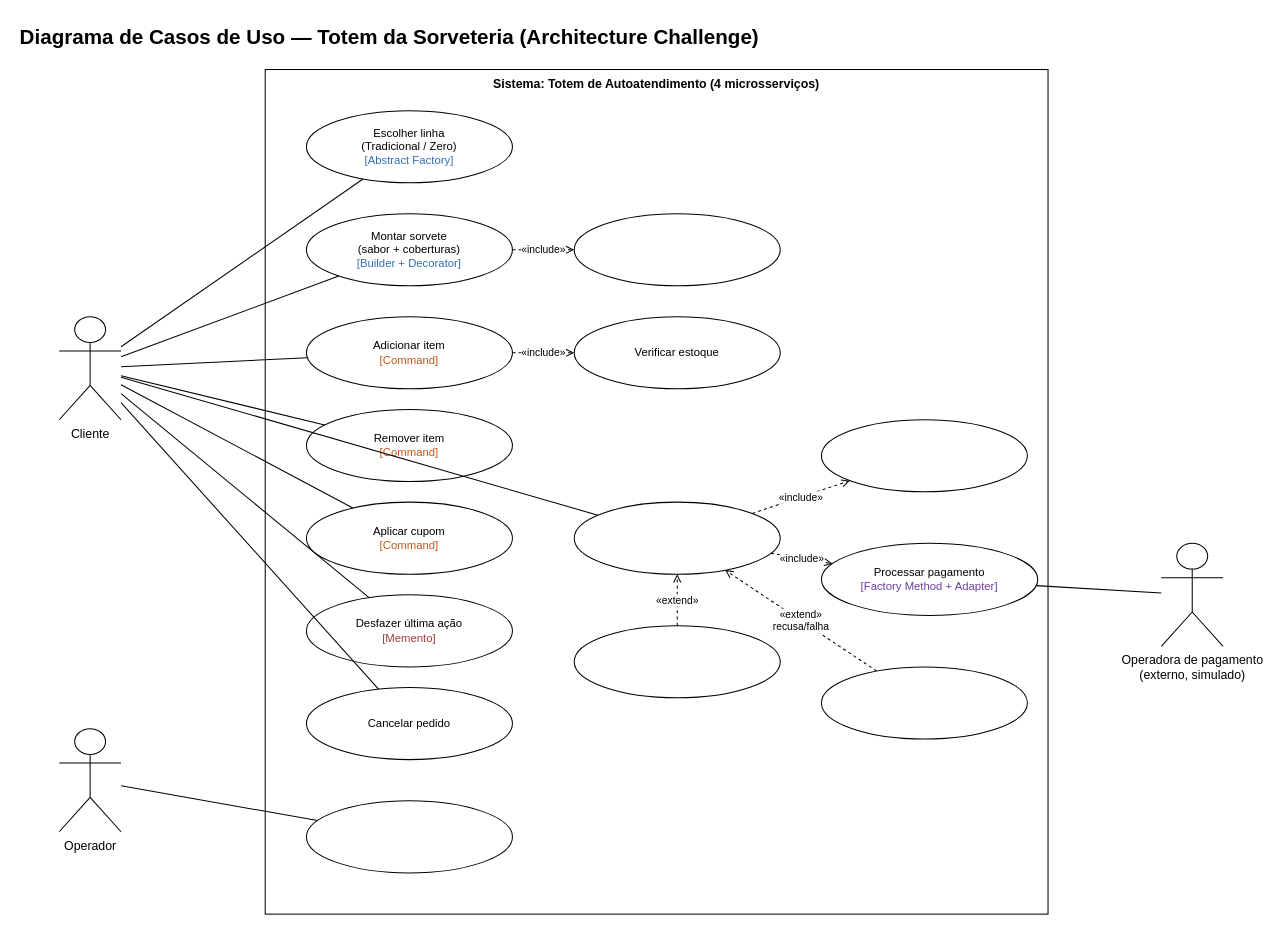
Some shapes in this 1280 by 932 pixel diagram are drawn without their labels. Each missing label, with the centre of its shape:
Consultar / repor estoque: (x=408, y=836)
Finalizar pedido [Facade + Mediator]: (x=676, y=537)
Liberar reserva (compensação): (x=923, y=702)
Reservar estoque: (x=923, y=455)
Tentar outro meio após recusa: (x=676, y=661)
Ver preço do item (catálogo): (x=676, y=249)
